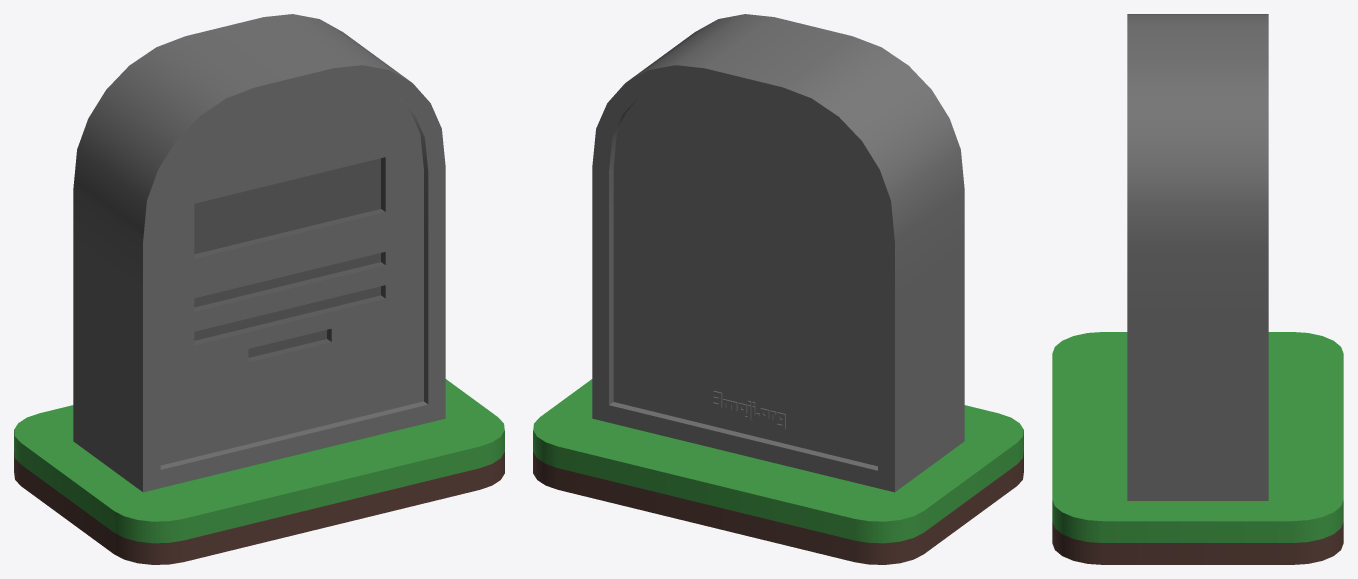
File: headstone.glb
3 renders of one model, left to right at view 1: azimuth 30°, elevation 25°; view 2: azimuth 150°, elevation 25°; view 3: azimuth 270°, elevation 25°, orthographic.
Visible parts, largest first — view 1: Cylinder.515; view 2: Cylinder.515; view 3: Cylinder.515.
Boxes of the visible parts, left/top/right/bottom form: Cylinder.515: left=14, top=14, right=504, bottom=564; Cylinder.515: left=533, top=14, right=1023, bottom=564; Cylinder.515: left=1052, top=14, right=1343, bottom=564.
Bounding box in the file's own units: 1.78 × 1.86 × 1.16.
1 material, 1 textured.
